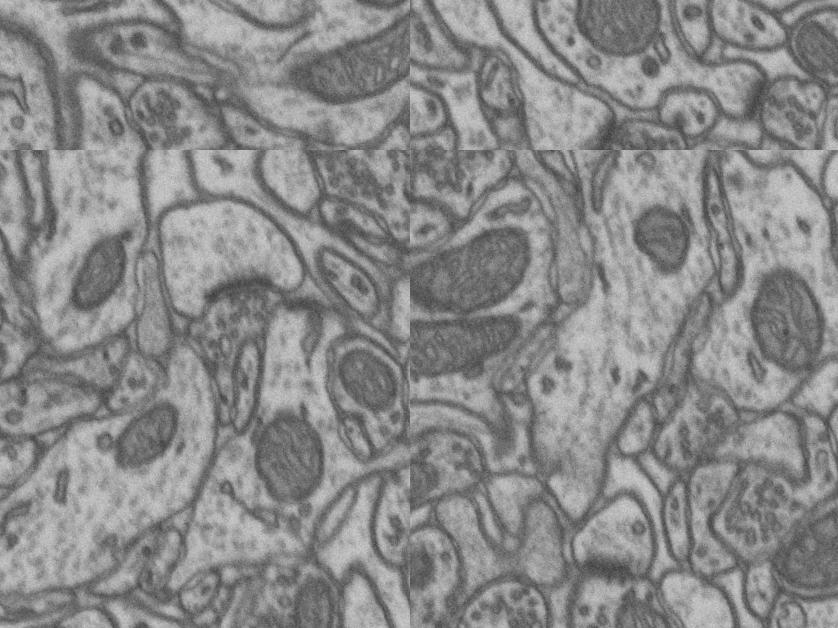mitochondria: (269, 0, 410, 112), (410, 217, 544, 326), (410, 285, 529, 396), (238, 396, 336, 520), (745, 259, 833, 381), (56, 224, 146, 322), (561, 0, 677, 68), (104, 396, 193, 482), (328, 334, 409, 426), (769, 498, 838, 598), (628, 196, 699, 280), (281, 556, 356, 628), (787, 15, 838, 80), (410, 452, 448, 523), (611, 591, 680, 628)
